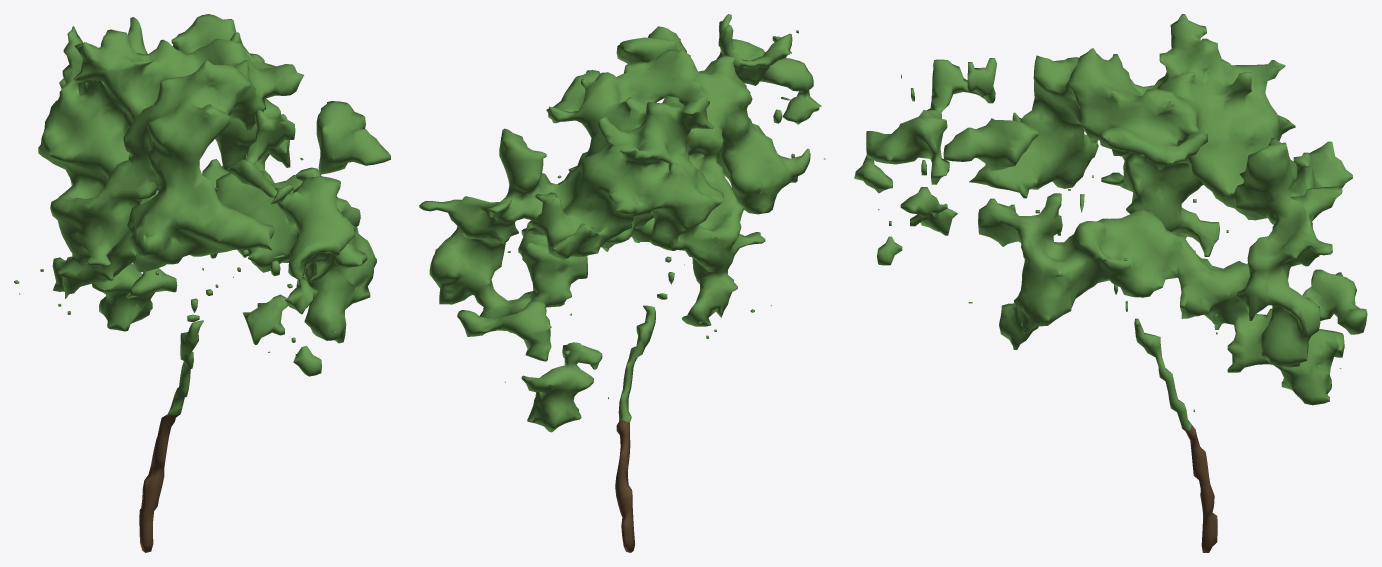
The model's file is tree.glb.
3 views of the same model, side by side, from view 1: azimuth 30°, elevation 25°; view 2: azimuth 150°, elevation 25°; view 3: azimuth 270°, elevation 25° (orthographic). The views are drawn at different scales.
Parts seen in each view (by area): view 1: tree_small_02_LOD0.001; view 2: tree_small_02_LOD0.001; view 3: tree_small_02_LOD0.001.
Boxes of the visible parts, x1,y1,x2,y2 form: tree_small_02_LOD0.001: (14,14,390,552); tree_small_02_LOD0.001: (419,14,825,552); tree_small_02_LOD0.001: (854,14,1367,552).
Size of the model in its own units: 2.8 by 4.43 by 4.1.
